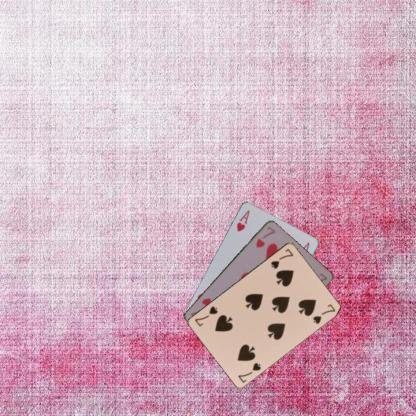7h: (253, 224, 277, 249)
7s: (268, 245, 295, 270), (235, 359, 262, 384)
Ah: (234, 207, 251, 233)
